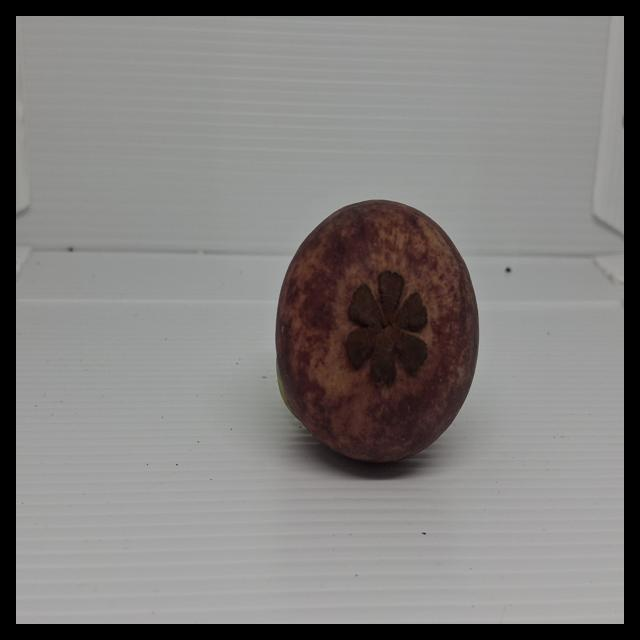mangosteen: (226, 186, 520, 483)
